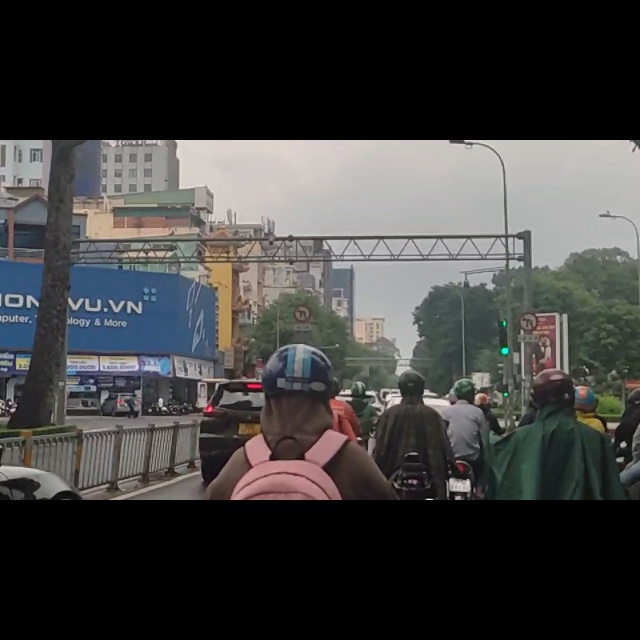bien_cam: (519, 306, 539, 340), (293, 292, 313, 326)
